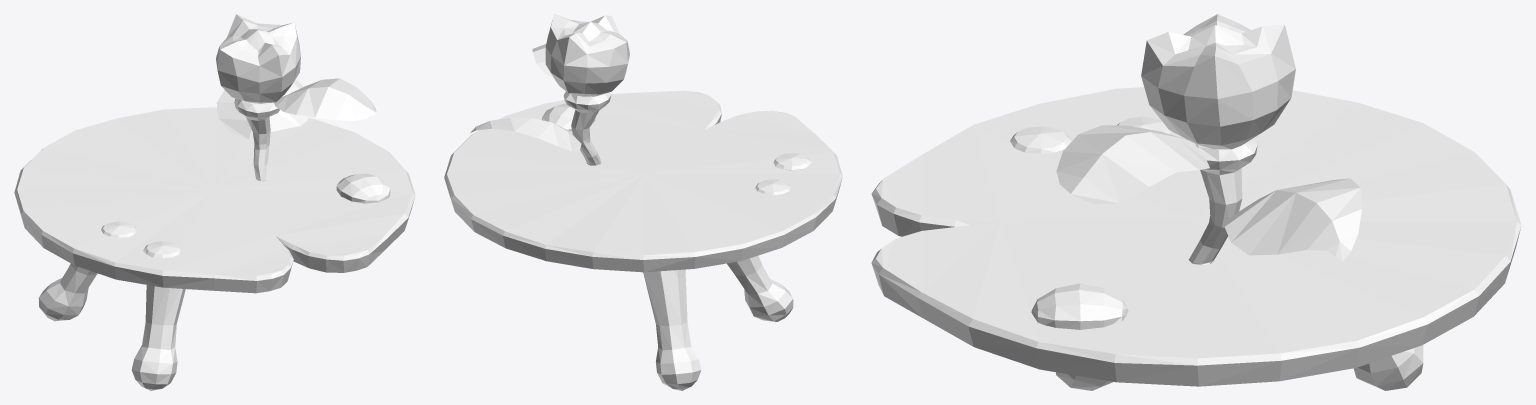
The model's file is g_s_table.glb.
3 renders of one model, left to right at view 1: azimuth 30°, elevation 25°; view 2: azimuth 150°, elevation 25°; view 3: azimuth 270°, elevation 25°, orthographic. The views are drawn at different scales.
Visible parts, largest first — view 1: geometry_0.037; view 2: geometry_0.037; view 3: geometry_0.037.
Part boxes in pixels (box(x1,y1,x2,y2)): geometry_0.037: box(14, 14, 415, 390); geometry_0.037: box(444, 14, 842, 390); geometry_0.037: box(871, 14, 1521, 390).
Size of the model in its own units: 0.1753 by 0.1415 by 0.1754.
1 material, 1 textured.
